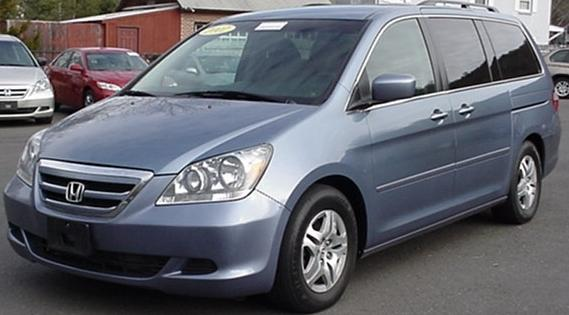front_view: (7, 122, 284, 303)
headlight: (172, 139, 280, 219)
side_glass: (358, 16, 501, 96)
